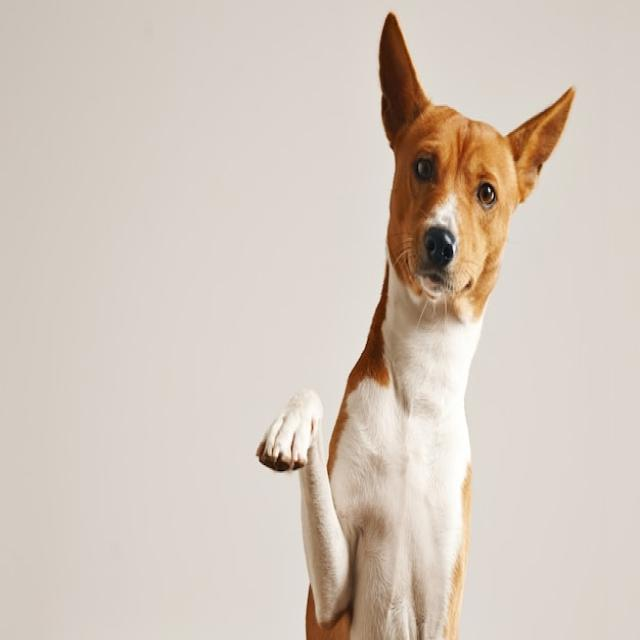Dog: (255, 9, 576, 640)
